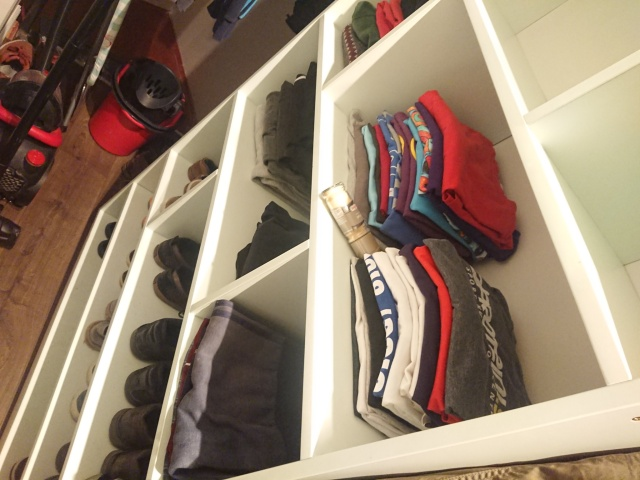Kotanyi Garlic Granules 70g: (318, 180, 384, 262)
